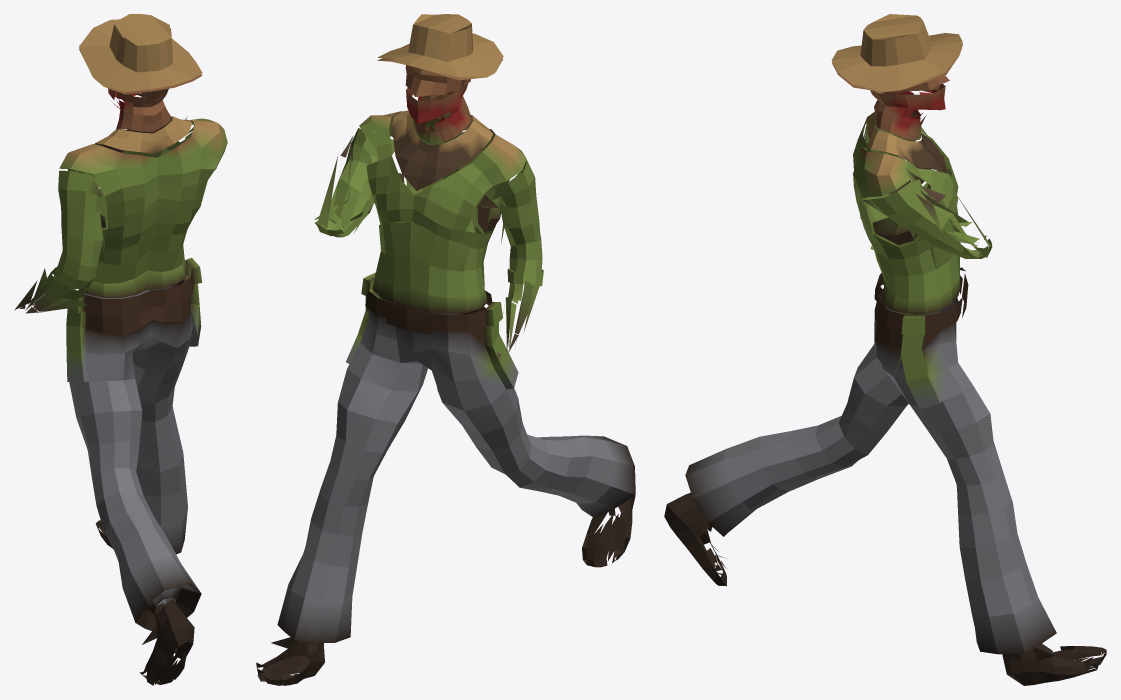
The model's file is man_3_c3.fbx.
The picture shows the model from 3 angles, left to right: view 1: azimuth 30°, elevation 25°; view 2: azimuth 150°, elevation 25°; view 3: azimuth 270°, elevation 25°; orthographic projection. The views are drawn at different scales.
Parts seen in each view (by area): view 1: cowboy; view 2: cowboy; view 3: cowboy.
Part boxes in pixels (x1=…): cowboy: x1=15, y1=14, x2=227, y2=685; cowboy: x1=256, y1=14, x2=635, y2=685; cowboy: x1=664, y1=14, x2=1106, y2=685.
Size of the model in its own units: 0.3304 by 0.9788 by 0.6263.
